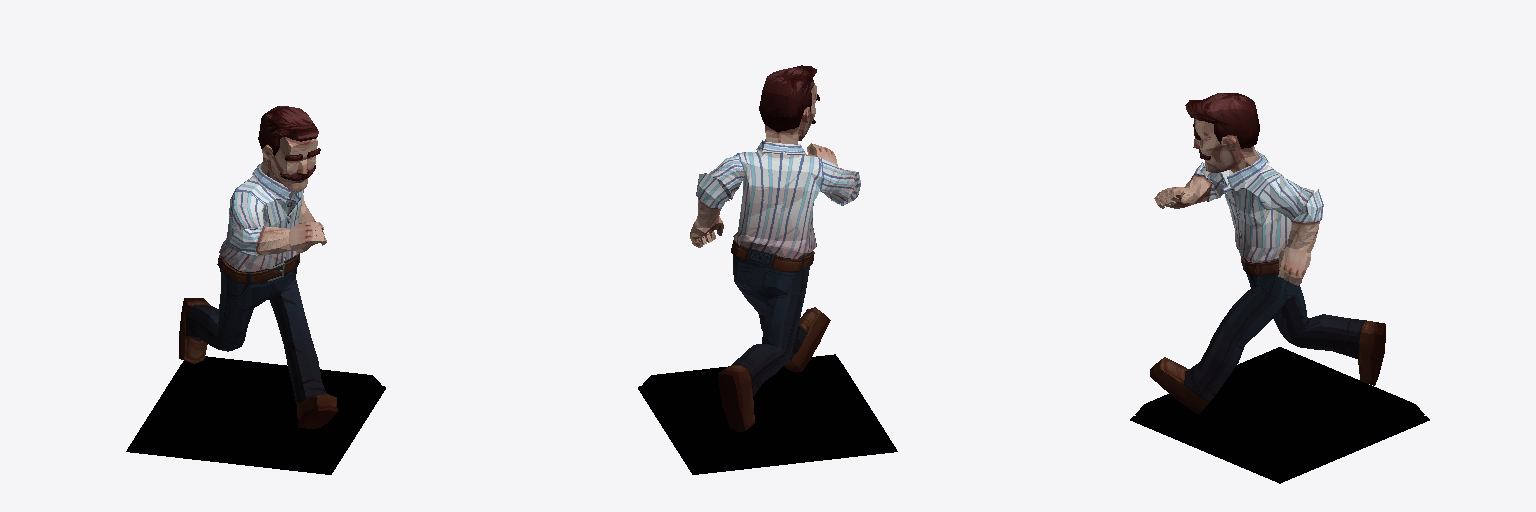
The picture shows the model from 3 angles: view 1: azimuth 30°, elevation 25°; view 2: azimuth 150°, elevation 25°; view 3: azimuth 270°, elevation 25°; orthographic projection.
Visible parts, largest first — view 1: obj1, obj2; view 2: obj1, obj2; view 3: obj1, obj2.
Boxes of the visible parts, x1,y1,x2,y2 form: obj1: [179, 106, 337, 428]; obj2: [126, 356, 385, 474]; obj1: [690, 65, 860, 431]; obj2: [638, 354, 897, 474]; obj1: [1150, 93, 1385, 413]; obj2: [1130, 347, 1429, 483].
Size of the model in its own units: 8.01 by 9.63 by 8.01.
Materials: 2 (1 with a texture image).